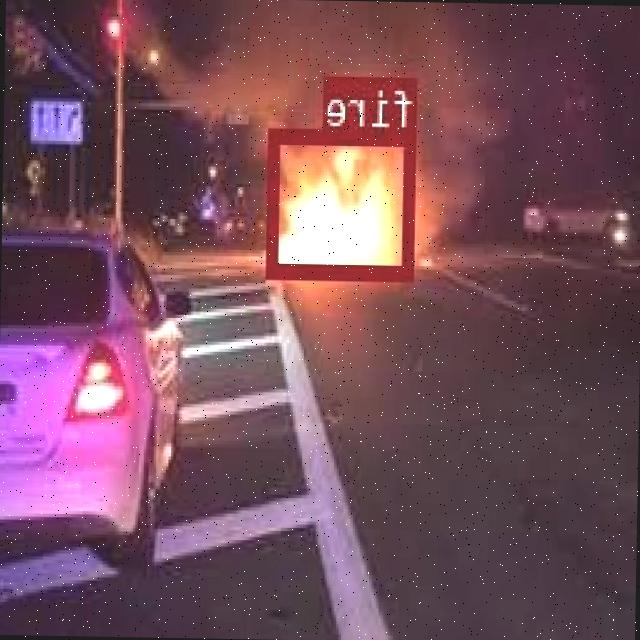fire: (268, 127, 418, 276)
